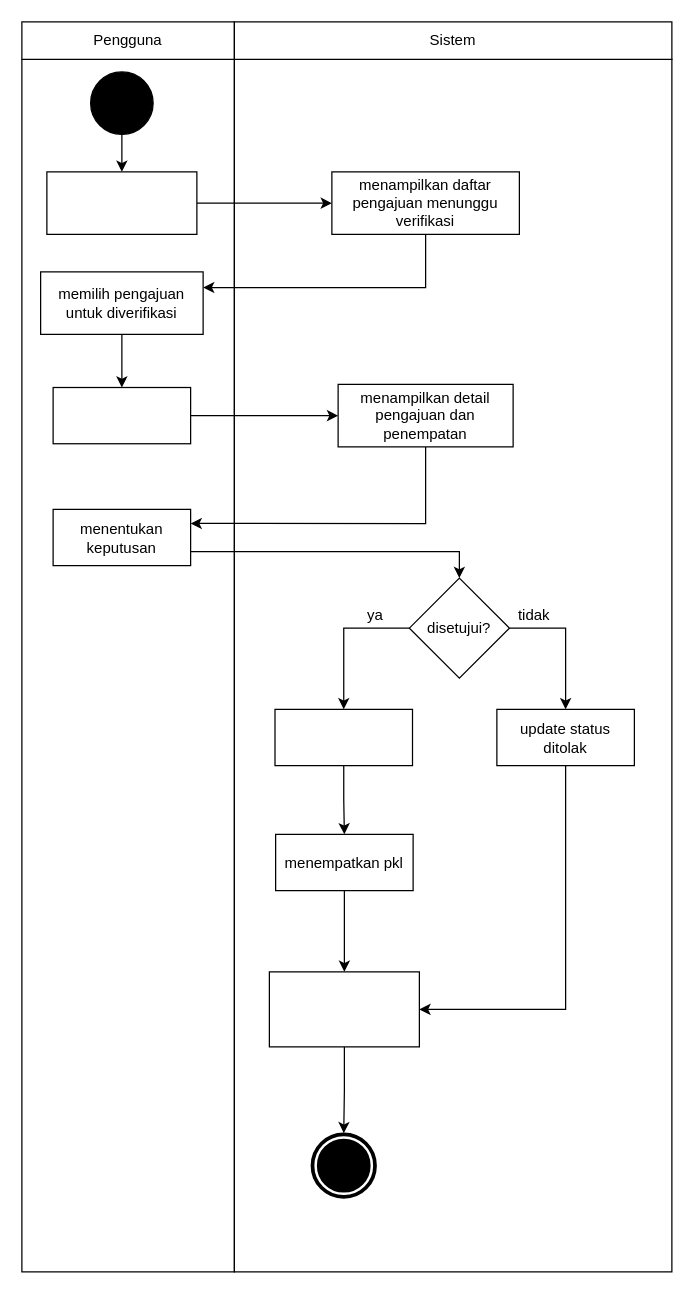
Image size: 694x1294. Some labels were removed from this diagram. The shapes that lost their labels are listed below. From the top down, each one's centre as x and y in pixels, then its label:
At point (121, 202): "membuka menu pengajuanPKL".
At point (121, 415): "menekan tombol detail pengajuan".
At point (343, 737): "update status diterima".
At point (343, 1009): "mengirim notifikasi kesiswa".
